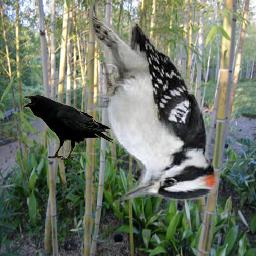Crow: (23, 94, 114, 160)
Woodpecker: (88, 3, 229, 210)
